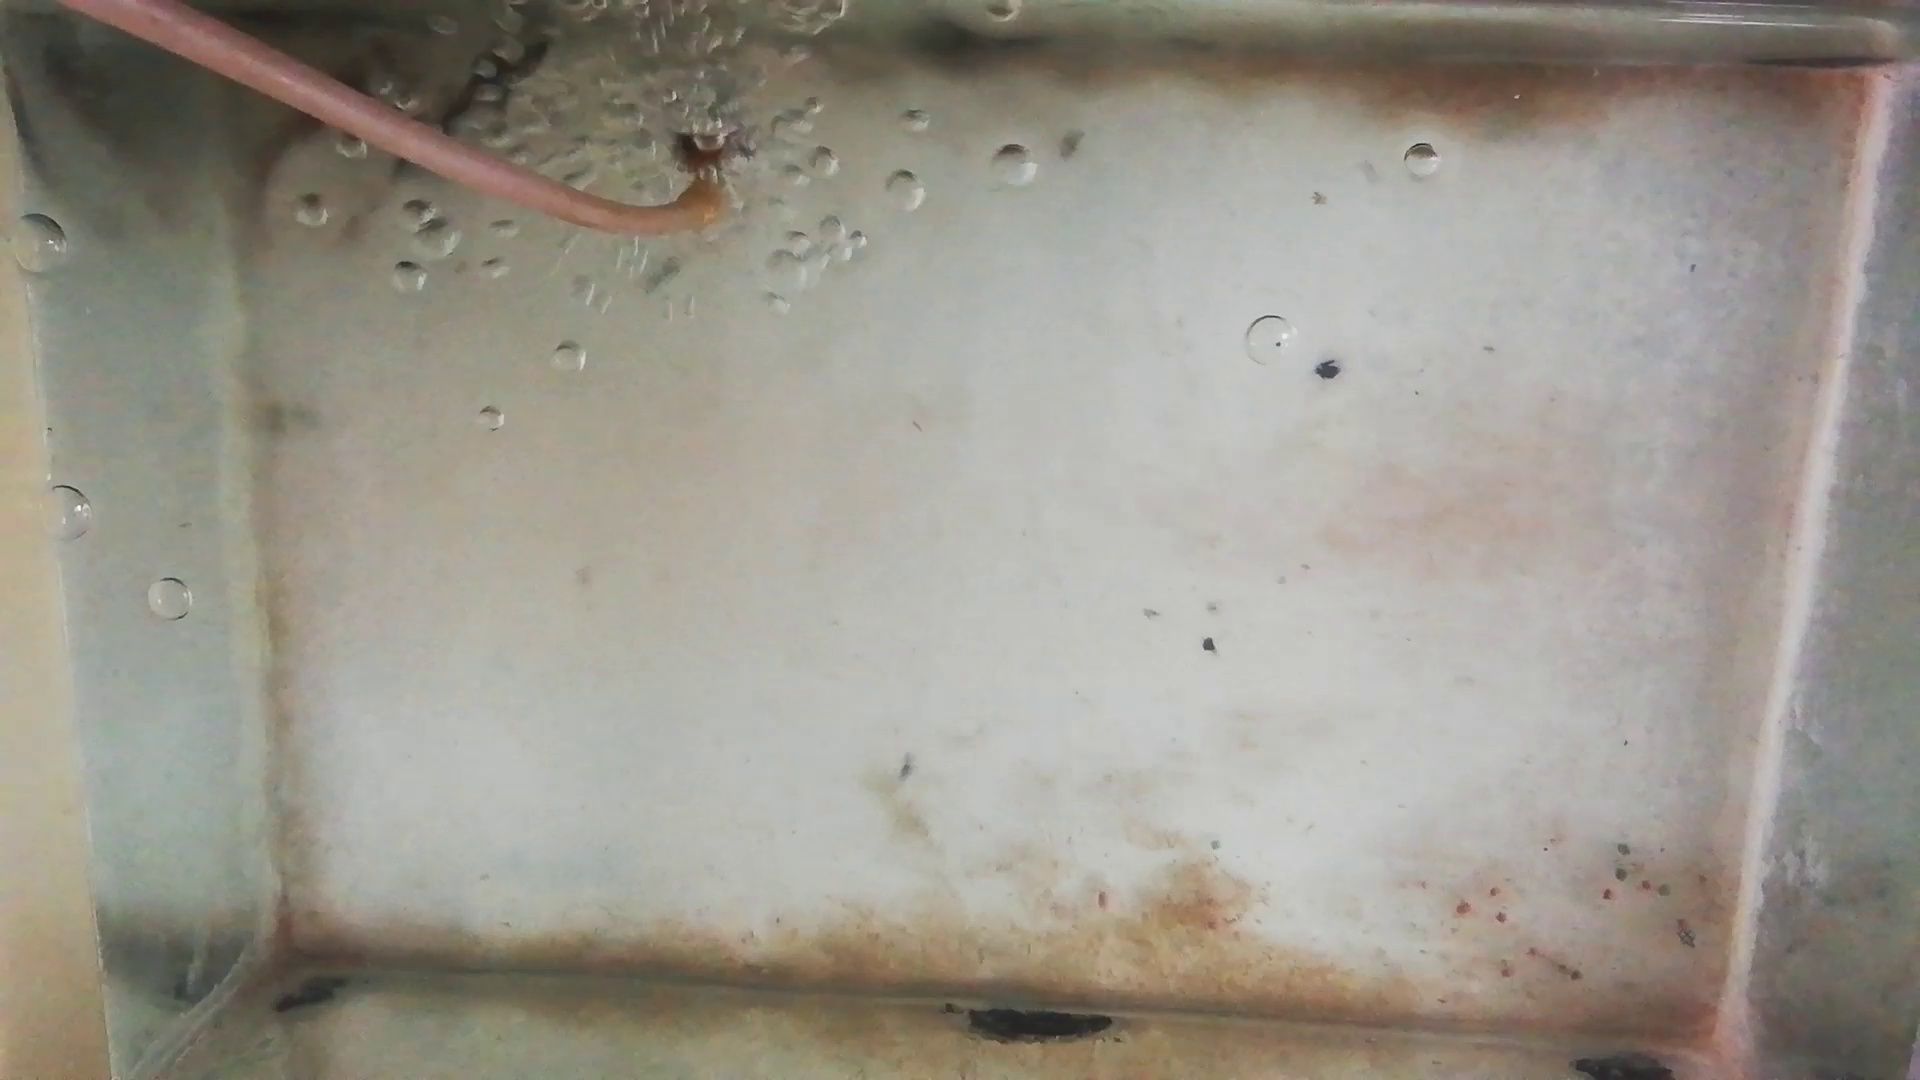fish: (392, 46, 549, 164), (228, 58, 367, 185)
